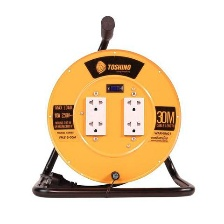three_eye_plug: (44, 44, 183, 186)
